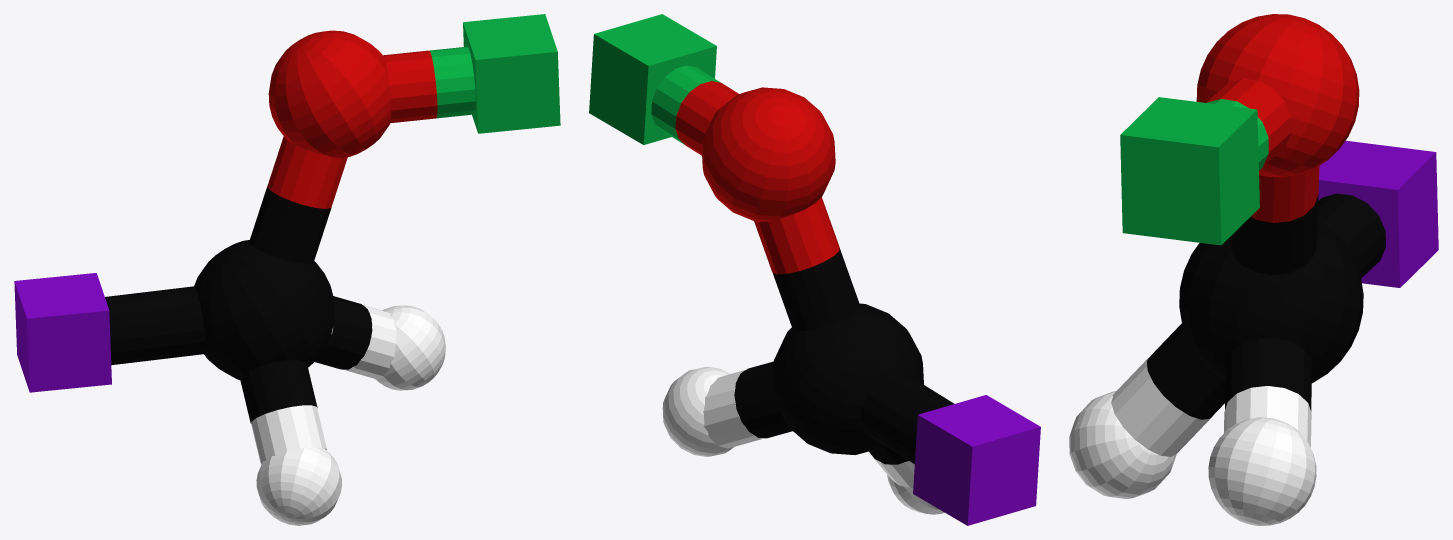
File: ester.obj
The picture shows the model from 3 angles, left to right: view 1: azimuth 30°, elevation 25°; view 2: azimuth 150°, elevation 25°; view 3: azimuth 270°, elevation 25°; orthographic projection. The views are drawn at different scales.
Visible parts, largest first — view 1: Shape_Sphere.005_Shape_Sphere.006, Shape_Sphere_Shape_Sphere.002, Cube_Cube.002, Cube_Cube.001, Shape_Cylinder.012, Shape_Sphere.013_Shape_Sphere.002, Shape_Cylinder.005, Shape_Sphere.013_Shape_Sphere, Shape_Cylinder.004, Shape_Cylinder.001, Shape_Cylinder.006, Shape_Cylinder.002 (+3 smaller); view 2: Shape_Sphere.005_Shape_Sphere.006, Shape_Sphere_Shape_Sphere.002, Cube_Cube.002, Cube_Cube.001, Shape_Cylinder.005, Shape_Cylinder.012, Shape_Cylinder.004, Shape_Sphere.013_Shape_Sphere, Shape_Cylinder.009, Shape_Cylinder.008, Shape_Cylinder.006, Shape_Cylinder.007 (+2 smaller); view 3: Cube_Cube.001, Shape_Sphere.005_Shape_Sphere.006, Shape_Sphere_Shape_Sphere.002, Cube_Cube.002, Shape_Sphere.013_Shape_Sphere, Shape_Sphere.013_Shape_Sphere.002, Shape_Cylinder.002, Shape_Cylinder.001, Shape_Cylinder.005, Shape_Cylinder.009, Shape_Cylinder.012, Shape_Cylinder.008 (+3 smaller).
Part boxes in pixels (x1,y1,x2,y2): Shape_Sphere.005_Shape_Sphere.006: (194, 240, 334, 379); Shape_Sphere_Shape_Sphere.002: (268, 30, 391, 157); Cube_Cube.002: (14, 273, 111, 392); Cube_Cube.001: (463, 14, 560, 133); Shape_Cylinder.012: (105, 286, 205, 365); Shape_Sphere.013_Shape_Sphere.002: (256, 447, 342, 525); Shape_Cylinder.005: (249, 187, 331, 263); Shape_Sphere.013_Shape_Sphere: (366, 305, 445, 390); Shape_Cylinder.004: (267, 136, 347, 208); Shape_Cylinder.001: (240, 359, 317, 423); Shape_Cylinder.006: (383, 50, 437, 123); Shape_Cylinder.002: (251, 405, 326, 465); Shape_Sphere.005_Shape_Sphere.006: (772, 303, 923, 454); Shape_Sphere_Shape_Sphere.002: (701, 87, 835, 221); Cube_Cube.002: (913, 395, 1040, 525); Cube_Cube.001: (589, 14, 716, 144); Shape_Cylinder.005: (773, 248, 859, 331); Shape_Cylinder.012: (860, 373, 954, 463); Shape_Cylinder.004: (754, 197, 839, 274); Shape_Sphere.013_Shape_Sphere: (662, 366, 746, 456); Shape_Cylinder.009: (734, 361, 792, 438); Shape_Cylinder.008: (703, 370, 763, 448); Shape_Cylinder.006: (675, 81, 738, 155); Shape_Cylinder.007: (651, 65, 720, 144); Cube_Cube.001: (1120, 97, 1259, 245); Shape_Sphere.005_Shape_Sphere.006: (1179, 220, 1363, 387); Shape_Sphere_Shape_Sphere.002: (1196, 14, 1359, 177); Cube_Cube.002: (1318, 140, 1438, 287); Shape_Sphere.013_Shape_Sphere: (1208, 417, 1316, 525); Shape_Sphere.013_Shape_Sphere.002: (1069, 391, 1176, 499); Shape_Cylinder.002: (1111, 357, 1212, 456); Shape_Cylinder.001: (1147, 323, 1225, 419); Shape_Cylinder.005: (1229, 194, 1318, 275); Shape_Cylinder.009: (1225, 338, 1311, 411); Shape_Cylinder.012: (1317, 193, 1385, 277); Shape_Cylinder.008: (1224, 386, 1311, 447).
Bounding box in the file's own units: 0.79 × 0.663 × 0.4186.
